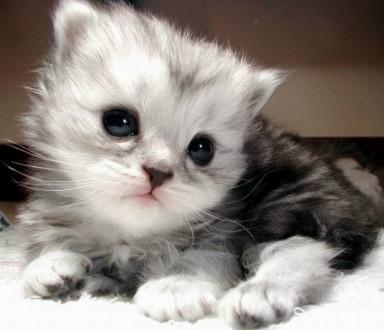cat: (15, 1, 379, 330)
